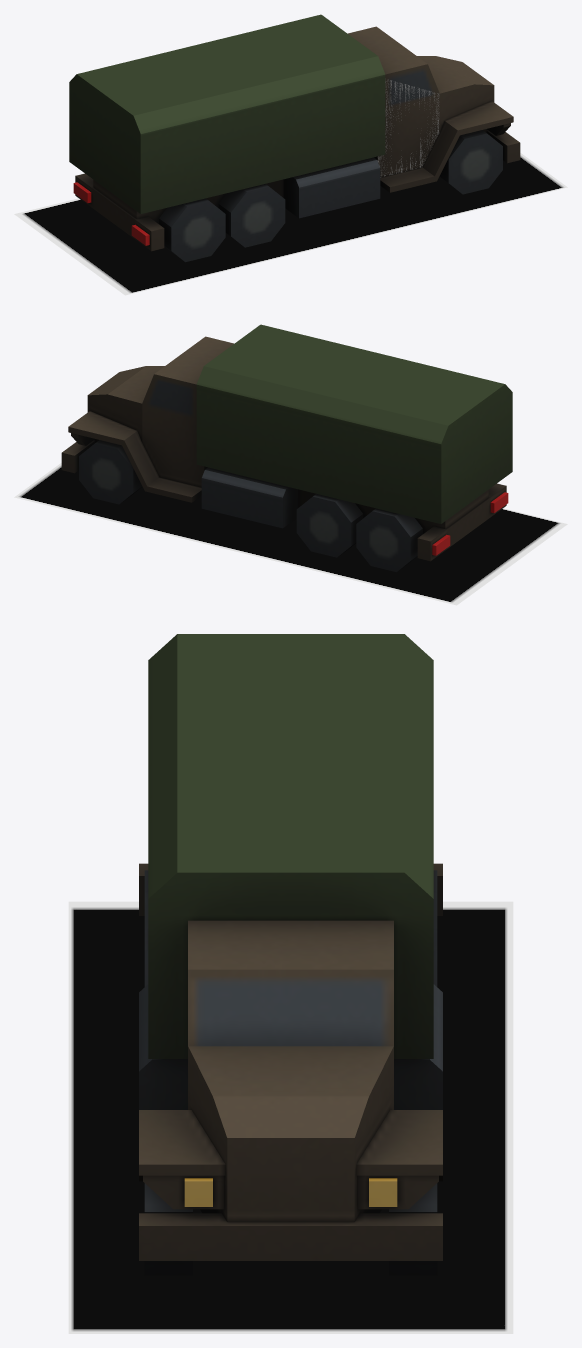
Rendered from 3x1_ural.FBX.
The picture shows the model from 3 angles, top to bottom: view 1: azimuth 30°, elevation 25°; view 2: azimuth 150°, elevation 25°; view 3: azimuth 270°, elevation 25°; orthographic projection. The views are drawn at different scales.
Parts seen in each view (by area): view 1: 3x1_ural, 3x1_ural_soft_shadow, 3x1_ural_shadow_caster; view 2: 3x1_ural, 3x1_ural_soft_shadow; view 3: 3x1_ural, 3x1_ural_soft_shadow.
Boxes of the visible parts, bbox=[...] form: 3x1_ural: bbox=[69, 14, 520, 262]; 3x1_ural_soft_shadow: bbox=[14, 153, 567, 295]; 3x1_ural_shadow_caster: bbox=[377, 79, 439, 177]; 3x1_ural: bbox=[61, 324, 512, 572]; 3x1_ural_soft_shadow: bbox=[14, 463, 567, 605]; 3x1_ural: bbox=[139, 634, 442, 1275]; 3x1_ural_soft_shadow: bbox=[68, 901, 513, 1333].
Bounding box in the file's own units: 3366 × 1111 × 1463.
